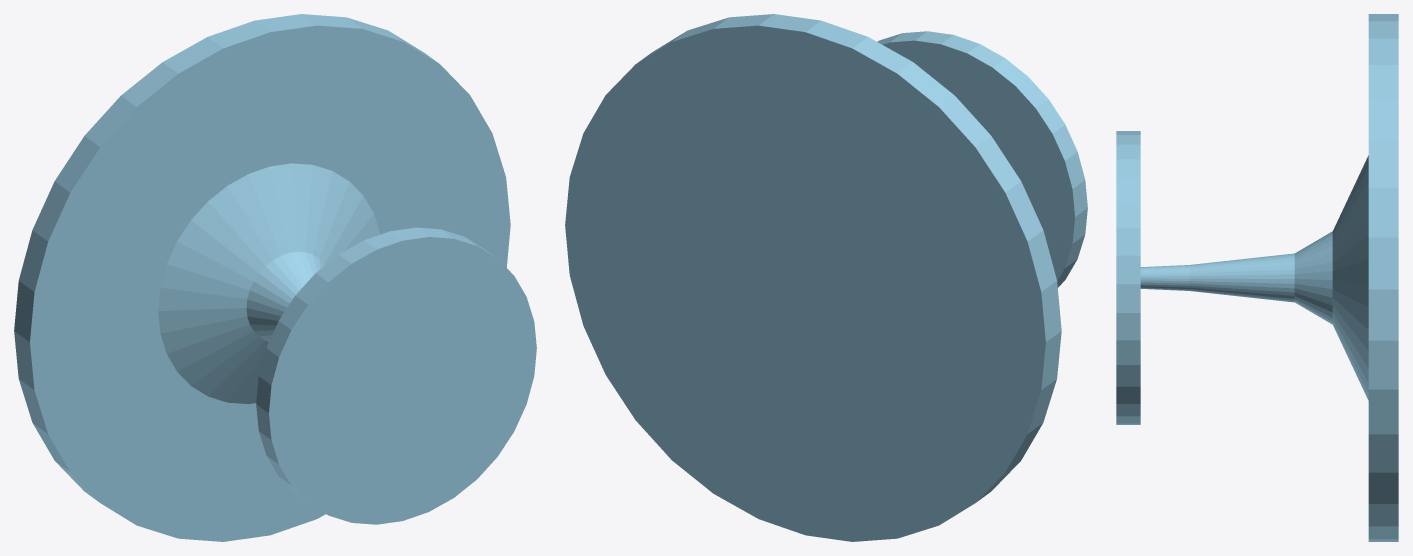
The model's file is table00.fbx.
3 views of the same model, side by side, from view 1: azimuth 30°, elevation 25°; view 2: azimuth 150°, elevation 25°; view 3: azimuth 270°, elevation 25° (orthographic). The views are drawn at different scales.
Parts seen in each view (by area): view 1: Стлшн, ПДС, НЖК; view 2: Стлшн, ПДС; view 3: Стлшн, НЖК, ПДС.
Part boxes in pixels (<box>): Стлшн: <box>14,14,510,541</box>; ПДС: <box>256,227,536,524</box>; НЖК: <box>158,163,380,404</box>; Стлшн: <box>565,14,1061,541</box>; ПДС: <box>877,31,1087,287</box>; Стлшн: <box>1368,14,1398,541</box>; НЖК: <box>1140,155,1368,400</box>; ПДС: <box>1116,131,1140,424</box>.
Bounding box in the file's own units: 200 × 200 × 107.
